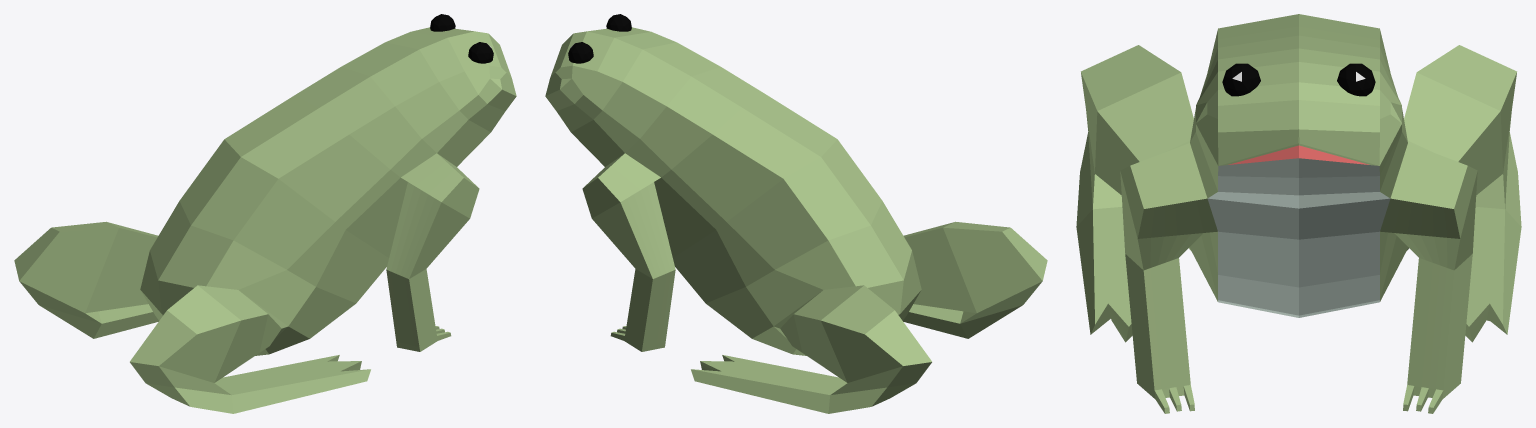
Rendered from FROG_V3.fbx.
The picture shows the model from 3 angles, left to right: view 1: azimuth 30°, elevation 25°; view 2: azimuth 150°, elevation 25°; view 3: azimuth 270°, elevation 25°; orthographic projection. The views are drawn at different scales.
Visible parts, largest first — view 1: Plane; view 2: Plane; view 3: Plane.
Boxes of the visible parts, x1,y1,x2,y2 form: Plane: (14, 14, 516, 413); Plane: (545, 14, 1047, 413); Plane: (1076, 14, 1521, 413).
Bounding box in the file's own units: 326 × 195 × 196.
